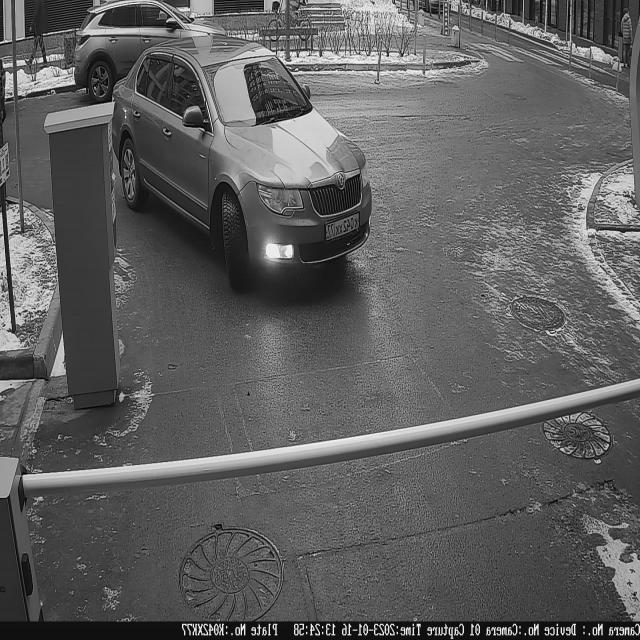car-plate-numbers: (324, 208, 362, 244)
